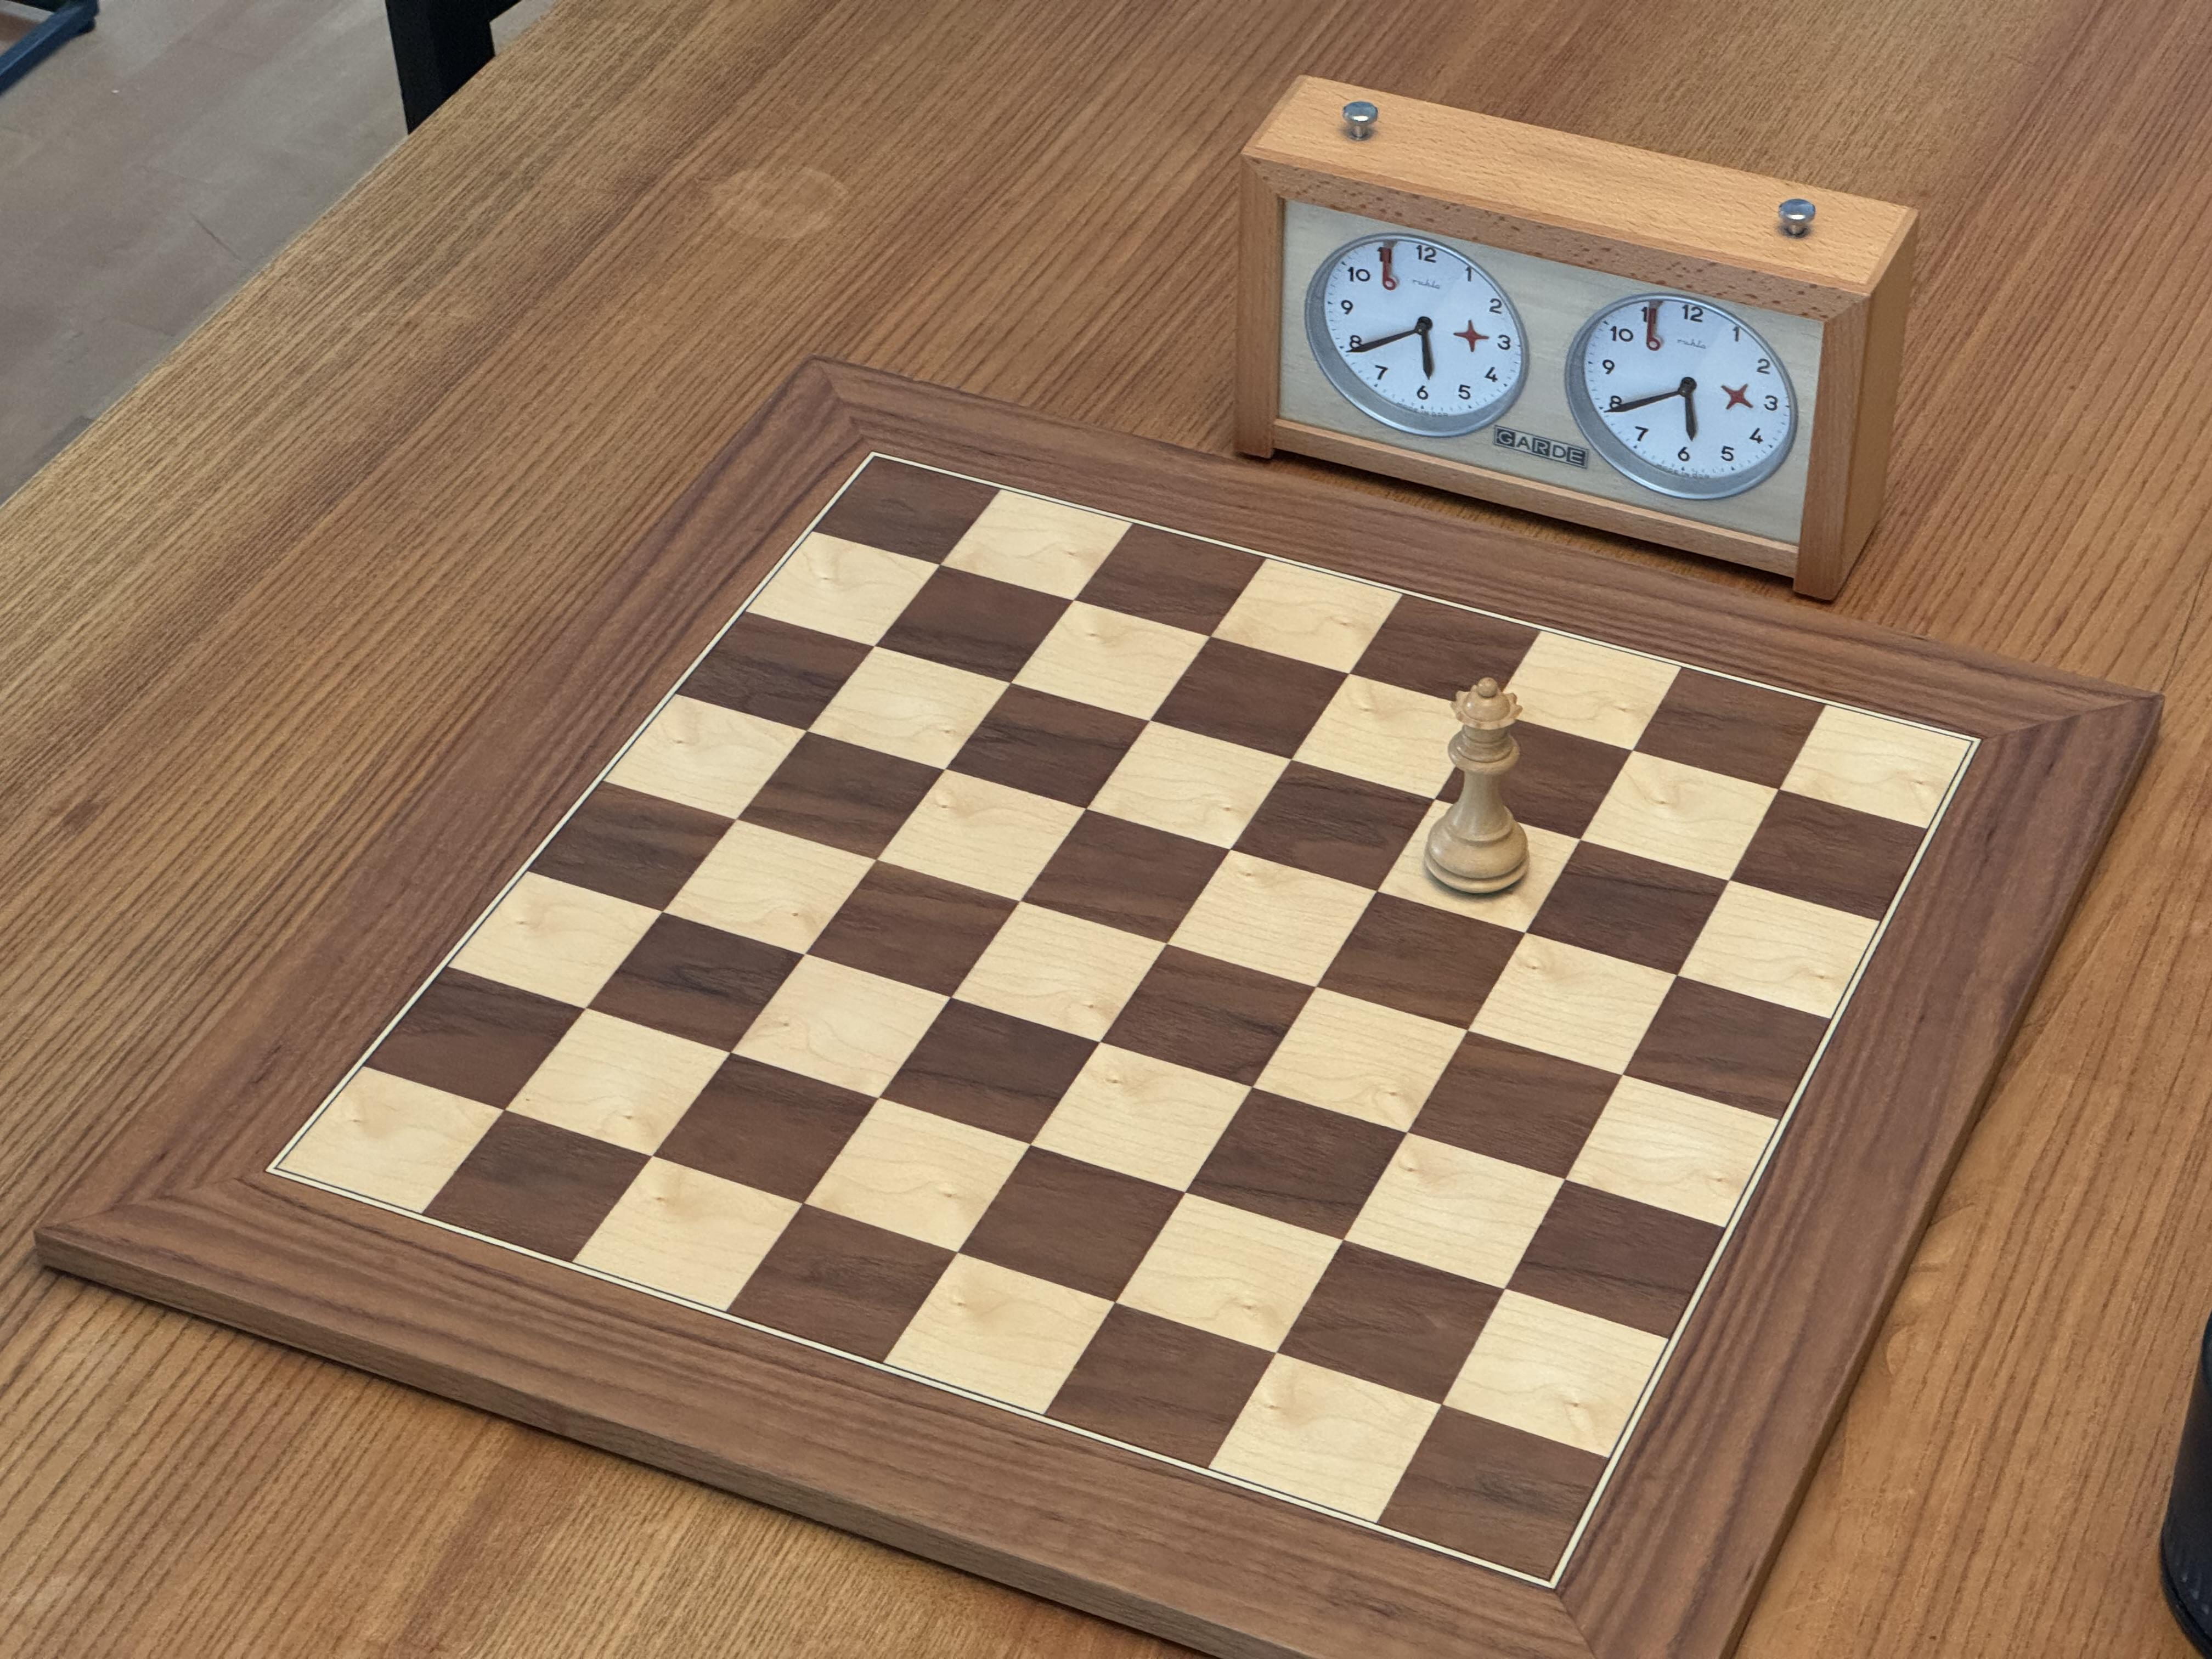White Queen: (1418, 673, 1534, 903)
